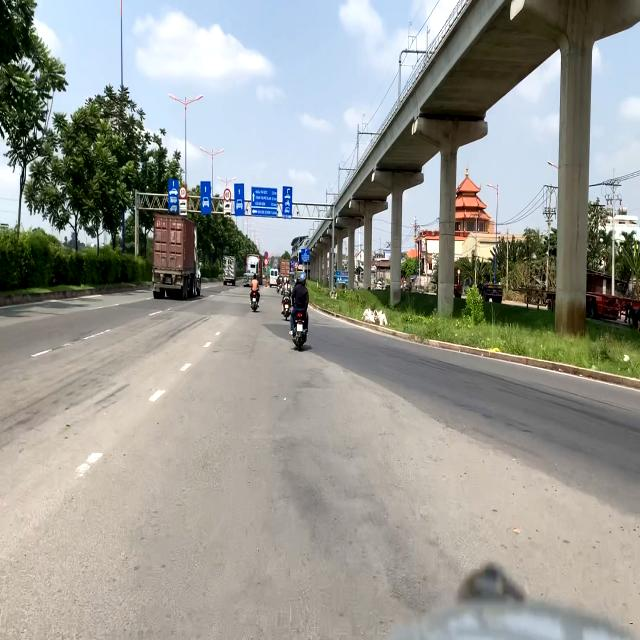P.127: (224, 188, 232, 202), (179, 185, 187, 199)
P.130: (265, 251, 268, 258)
